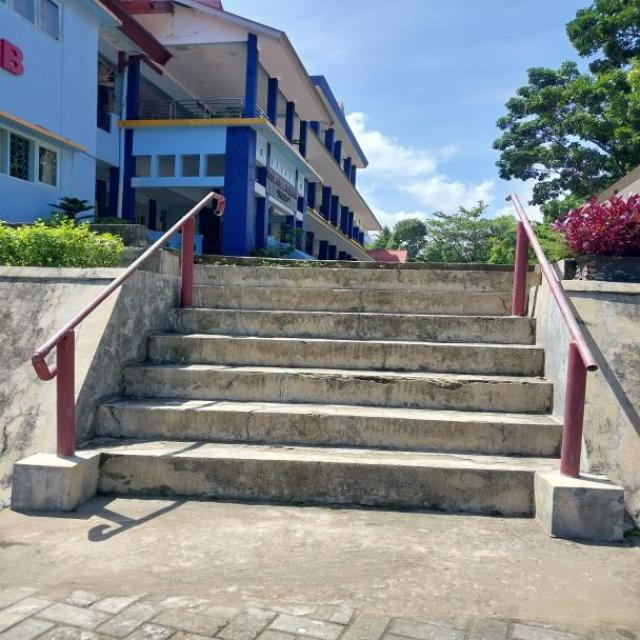stairs ahead at: (98, 280, 555, 511)
